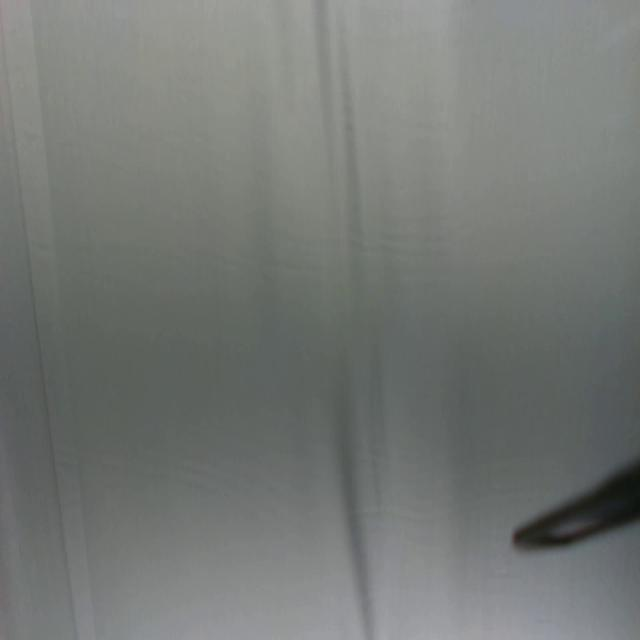crease: (0, 0, 97, 639)
